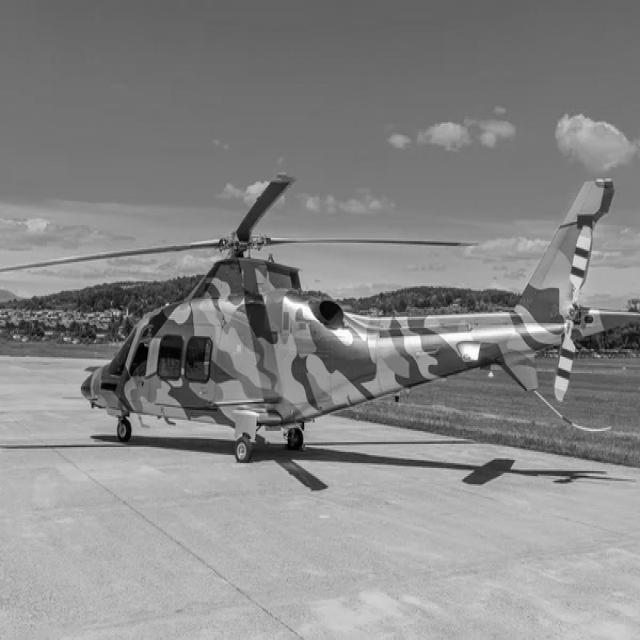Helicopter: (0, 174, 640, 460)
